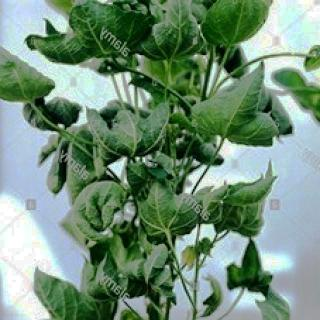curl: (48, 10, 262, 48), (201, 80, 277, 144), (31, 269, 117, 320), (82, 194, 176, 236), (94, 112, 170, 160), (234, 169, 284, 217), (232, 249, 270, 289)
